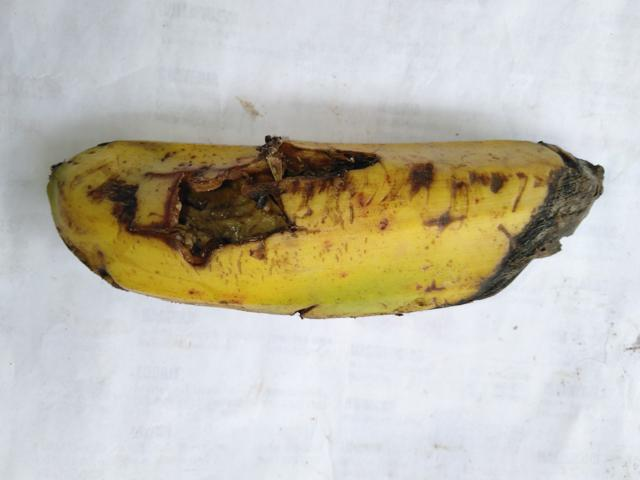rotten: (95, 101, 386, 294), (447, 120, 610, 338)
